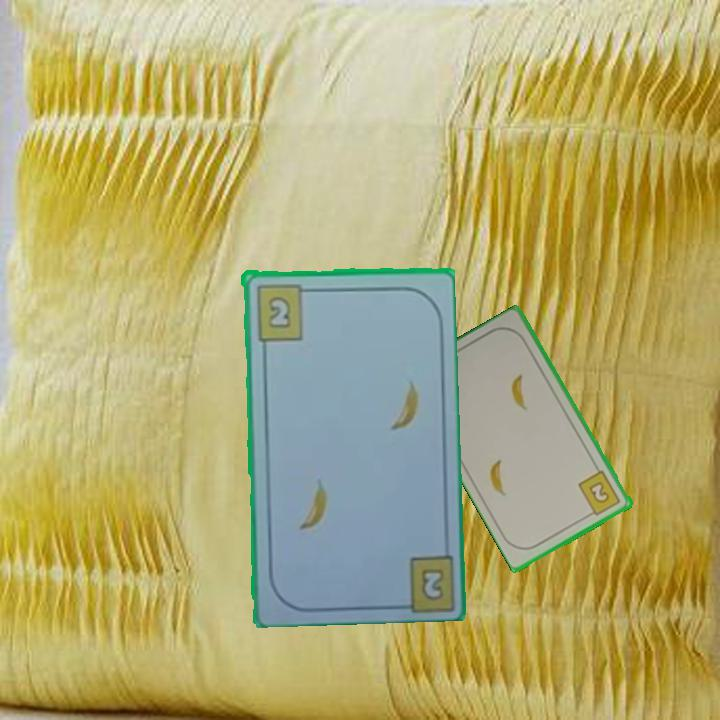2b: (252, 280, 314, 343), (575, 467, 624, 520), (420, 568, 443, 600)
